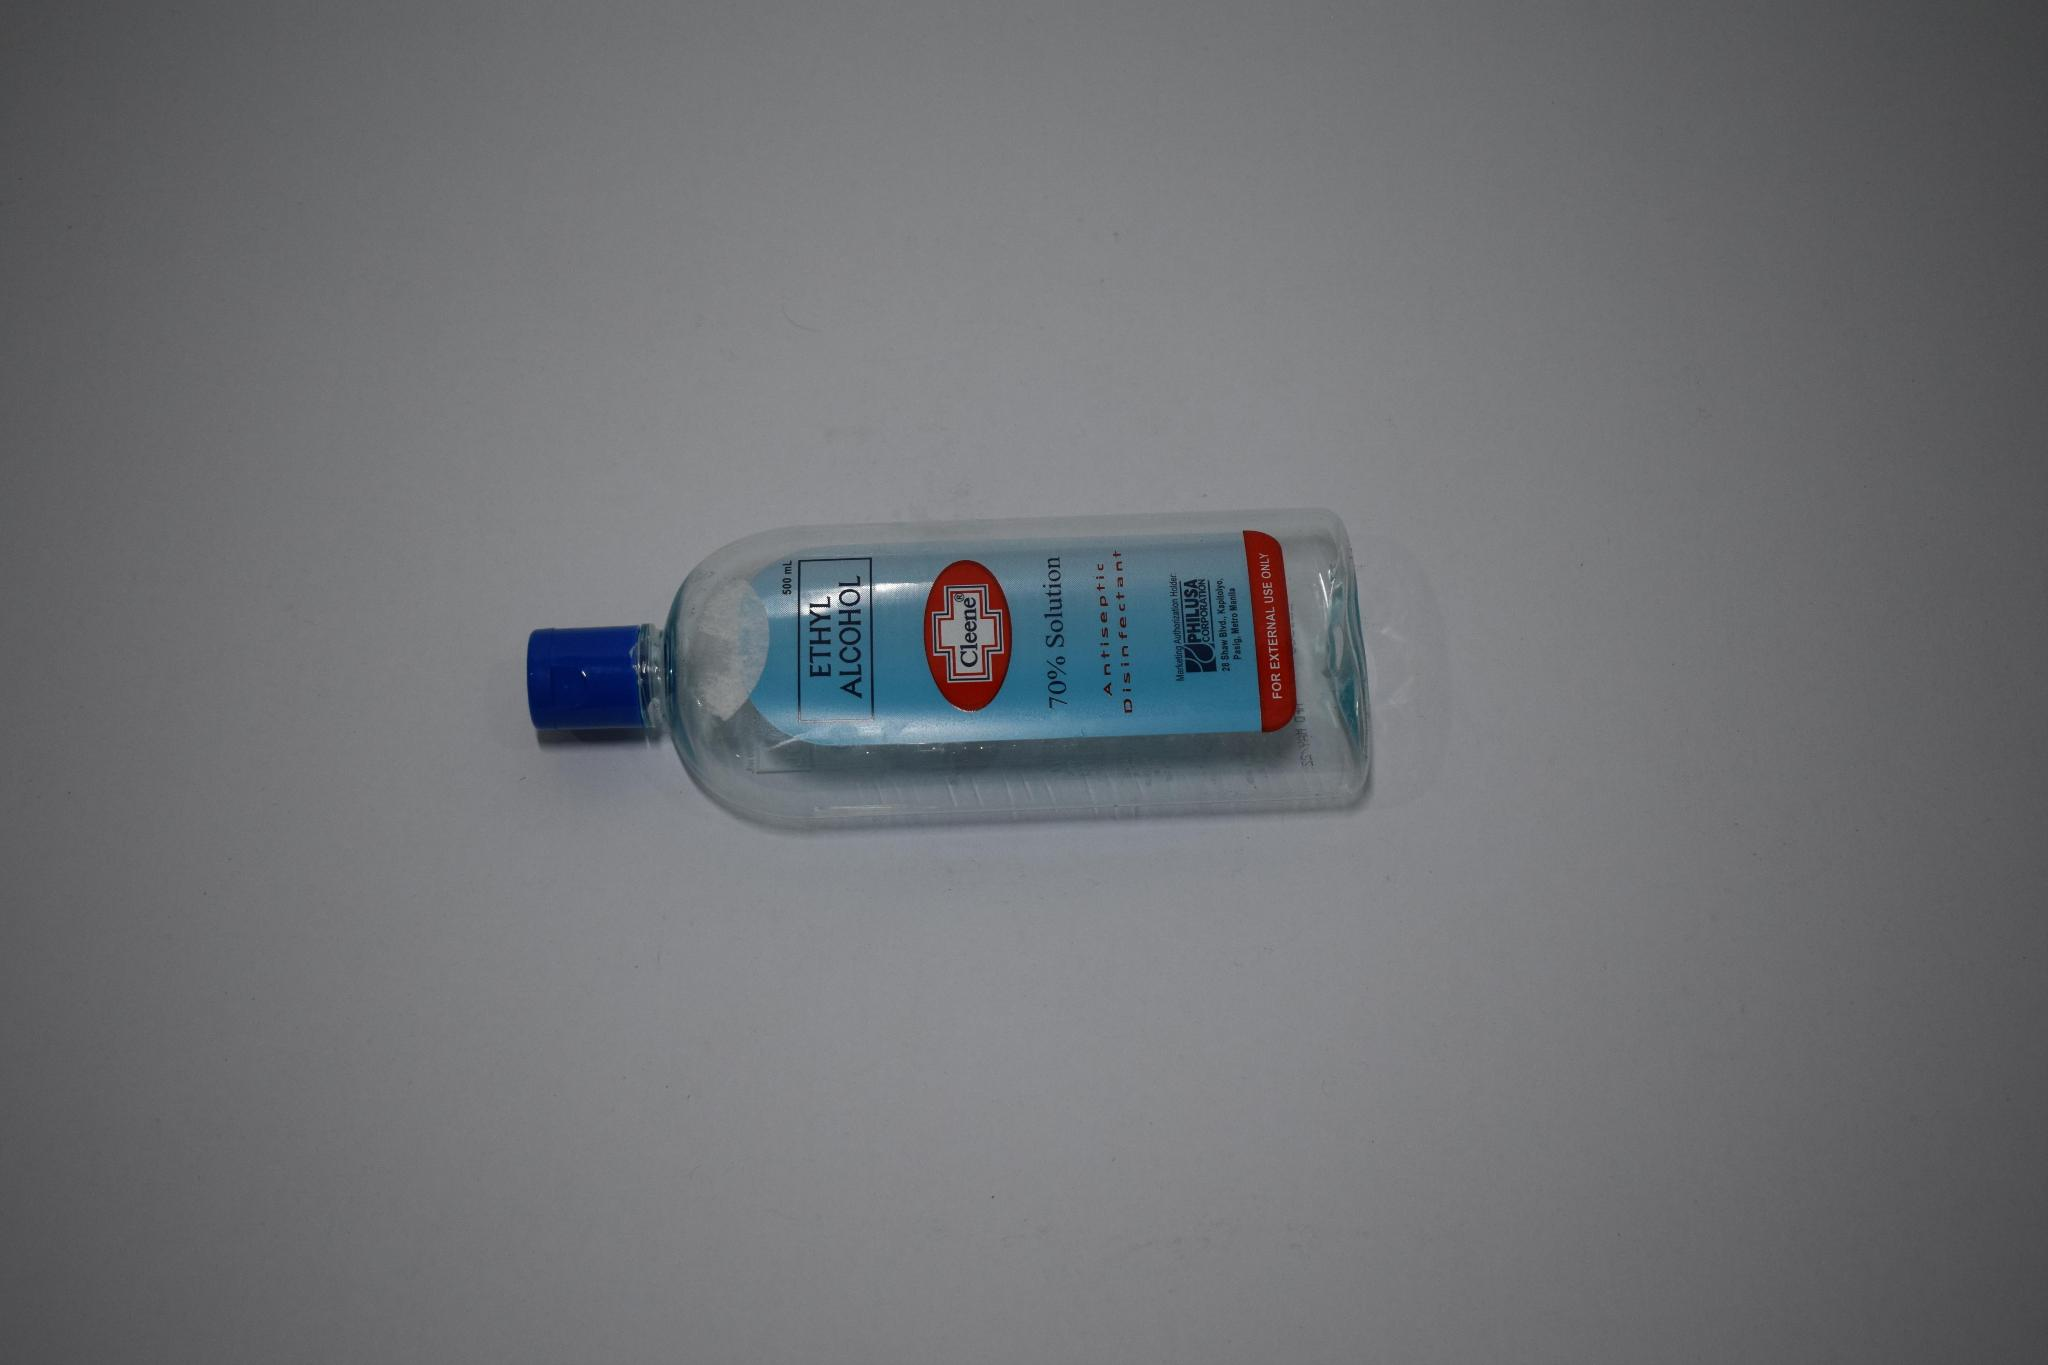bottle: (519, 498, 1380, 850)
